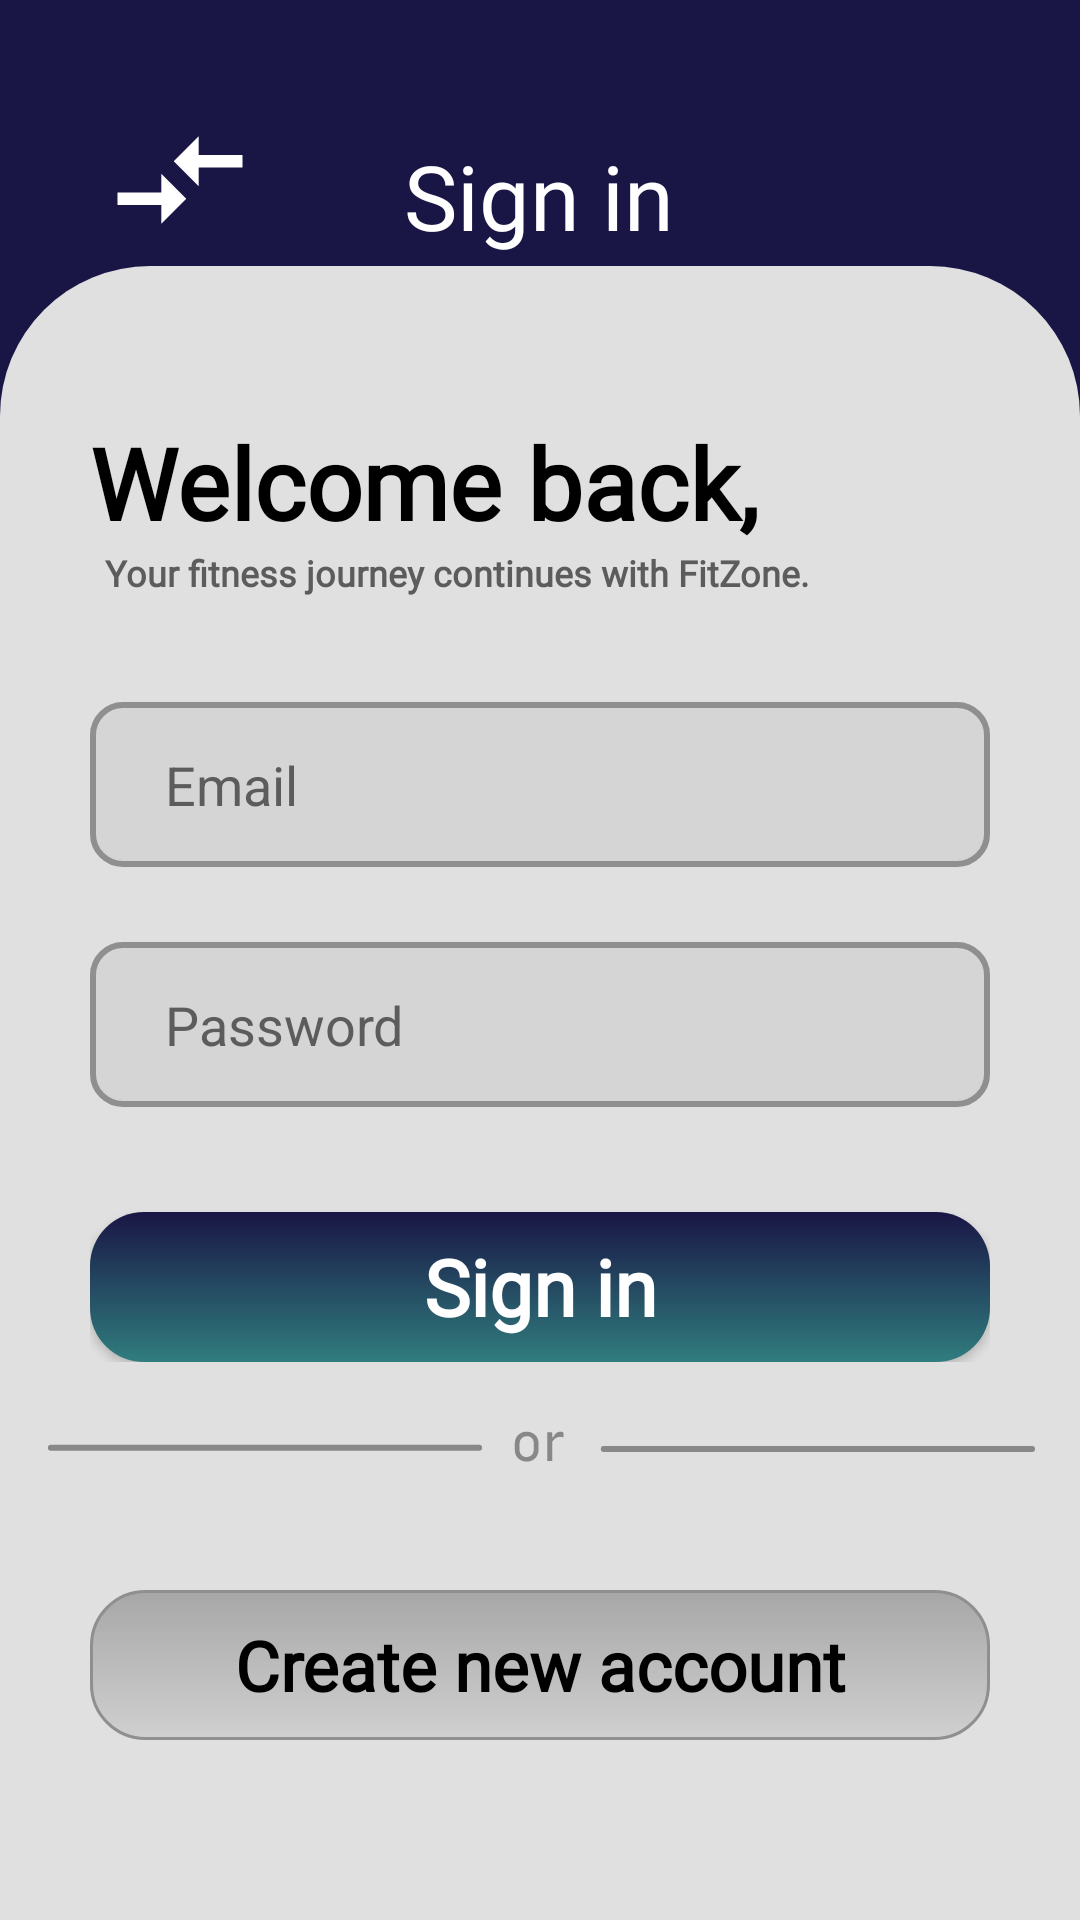

Icon click points for this 1080 x 1920 phone screenshot, format (x,y):
compare arrows: (180,180)
